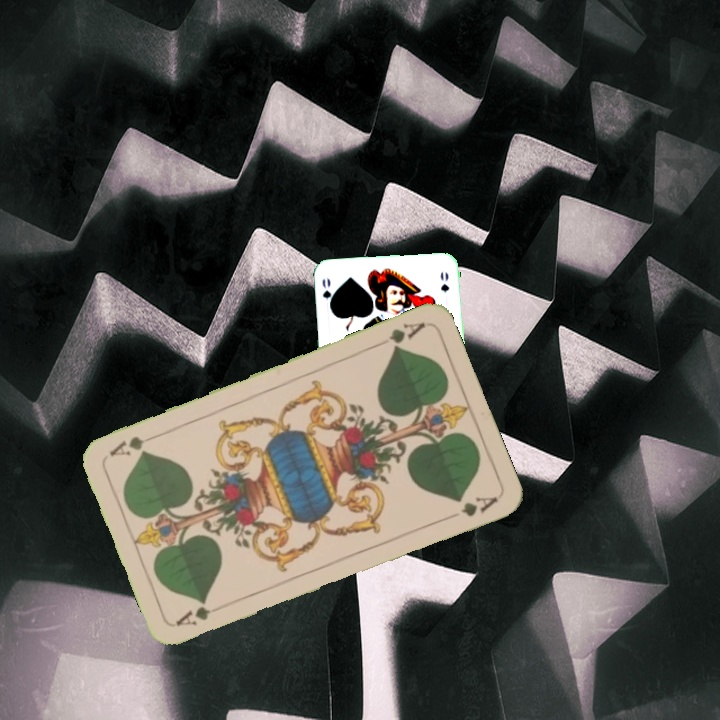GA: (372, 318, 428, 353), (171, 599, 229, 629)
GO: (318, 274, 336, 314)
